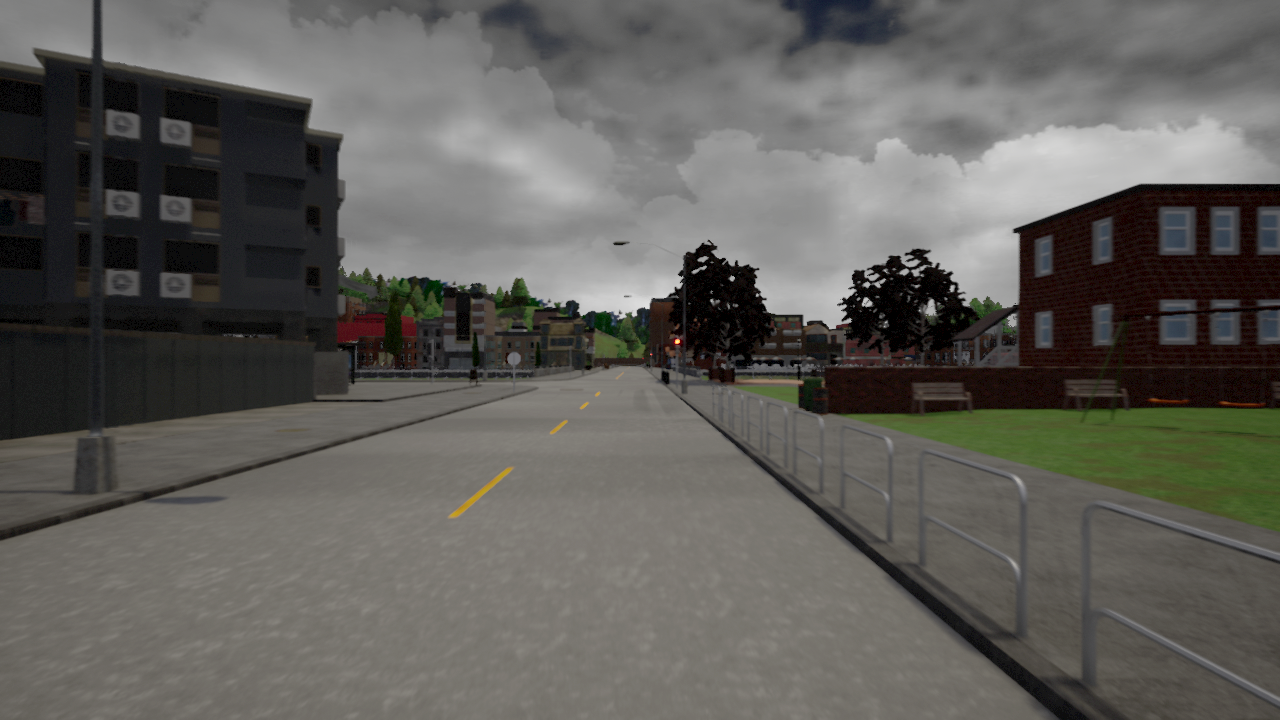red: (674, 337, 680, 354)
